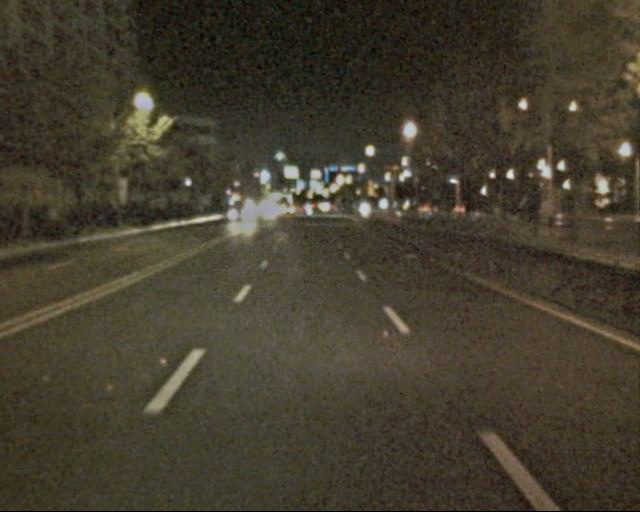person: (524, 185, 545, 238), (508, 187, 530, 233)
